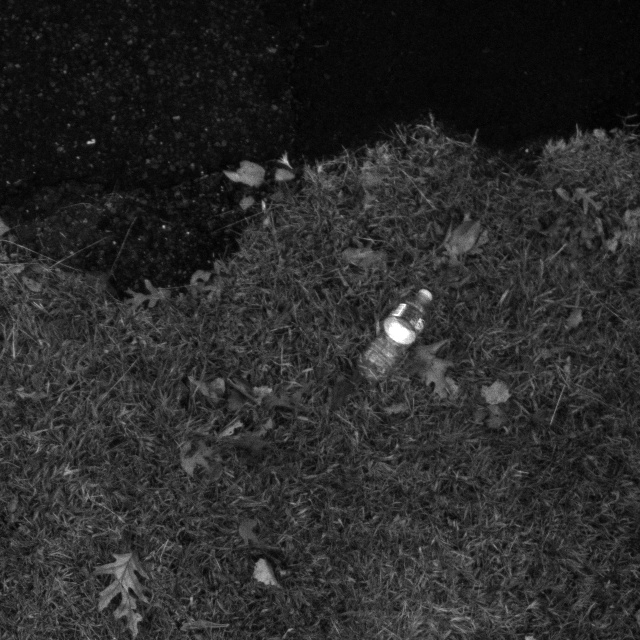bottle: (354, 270, 449, 385)
